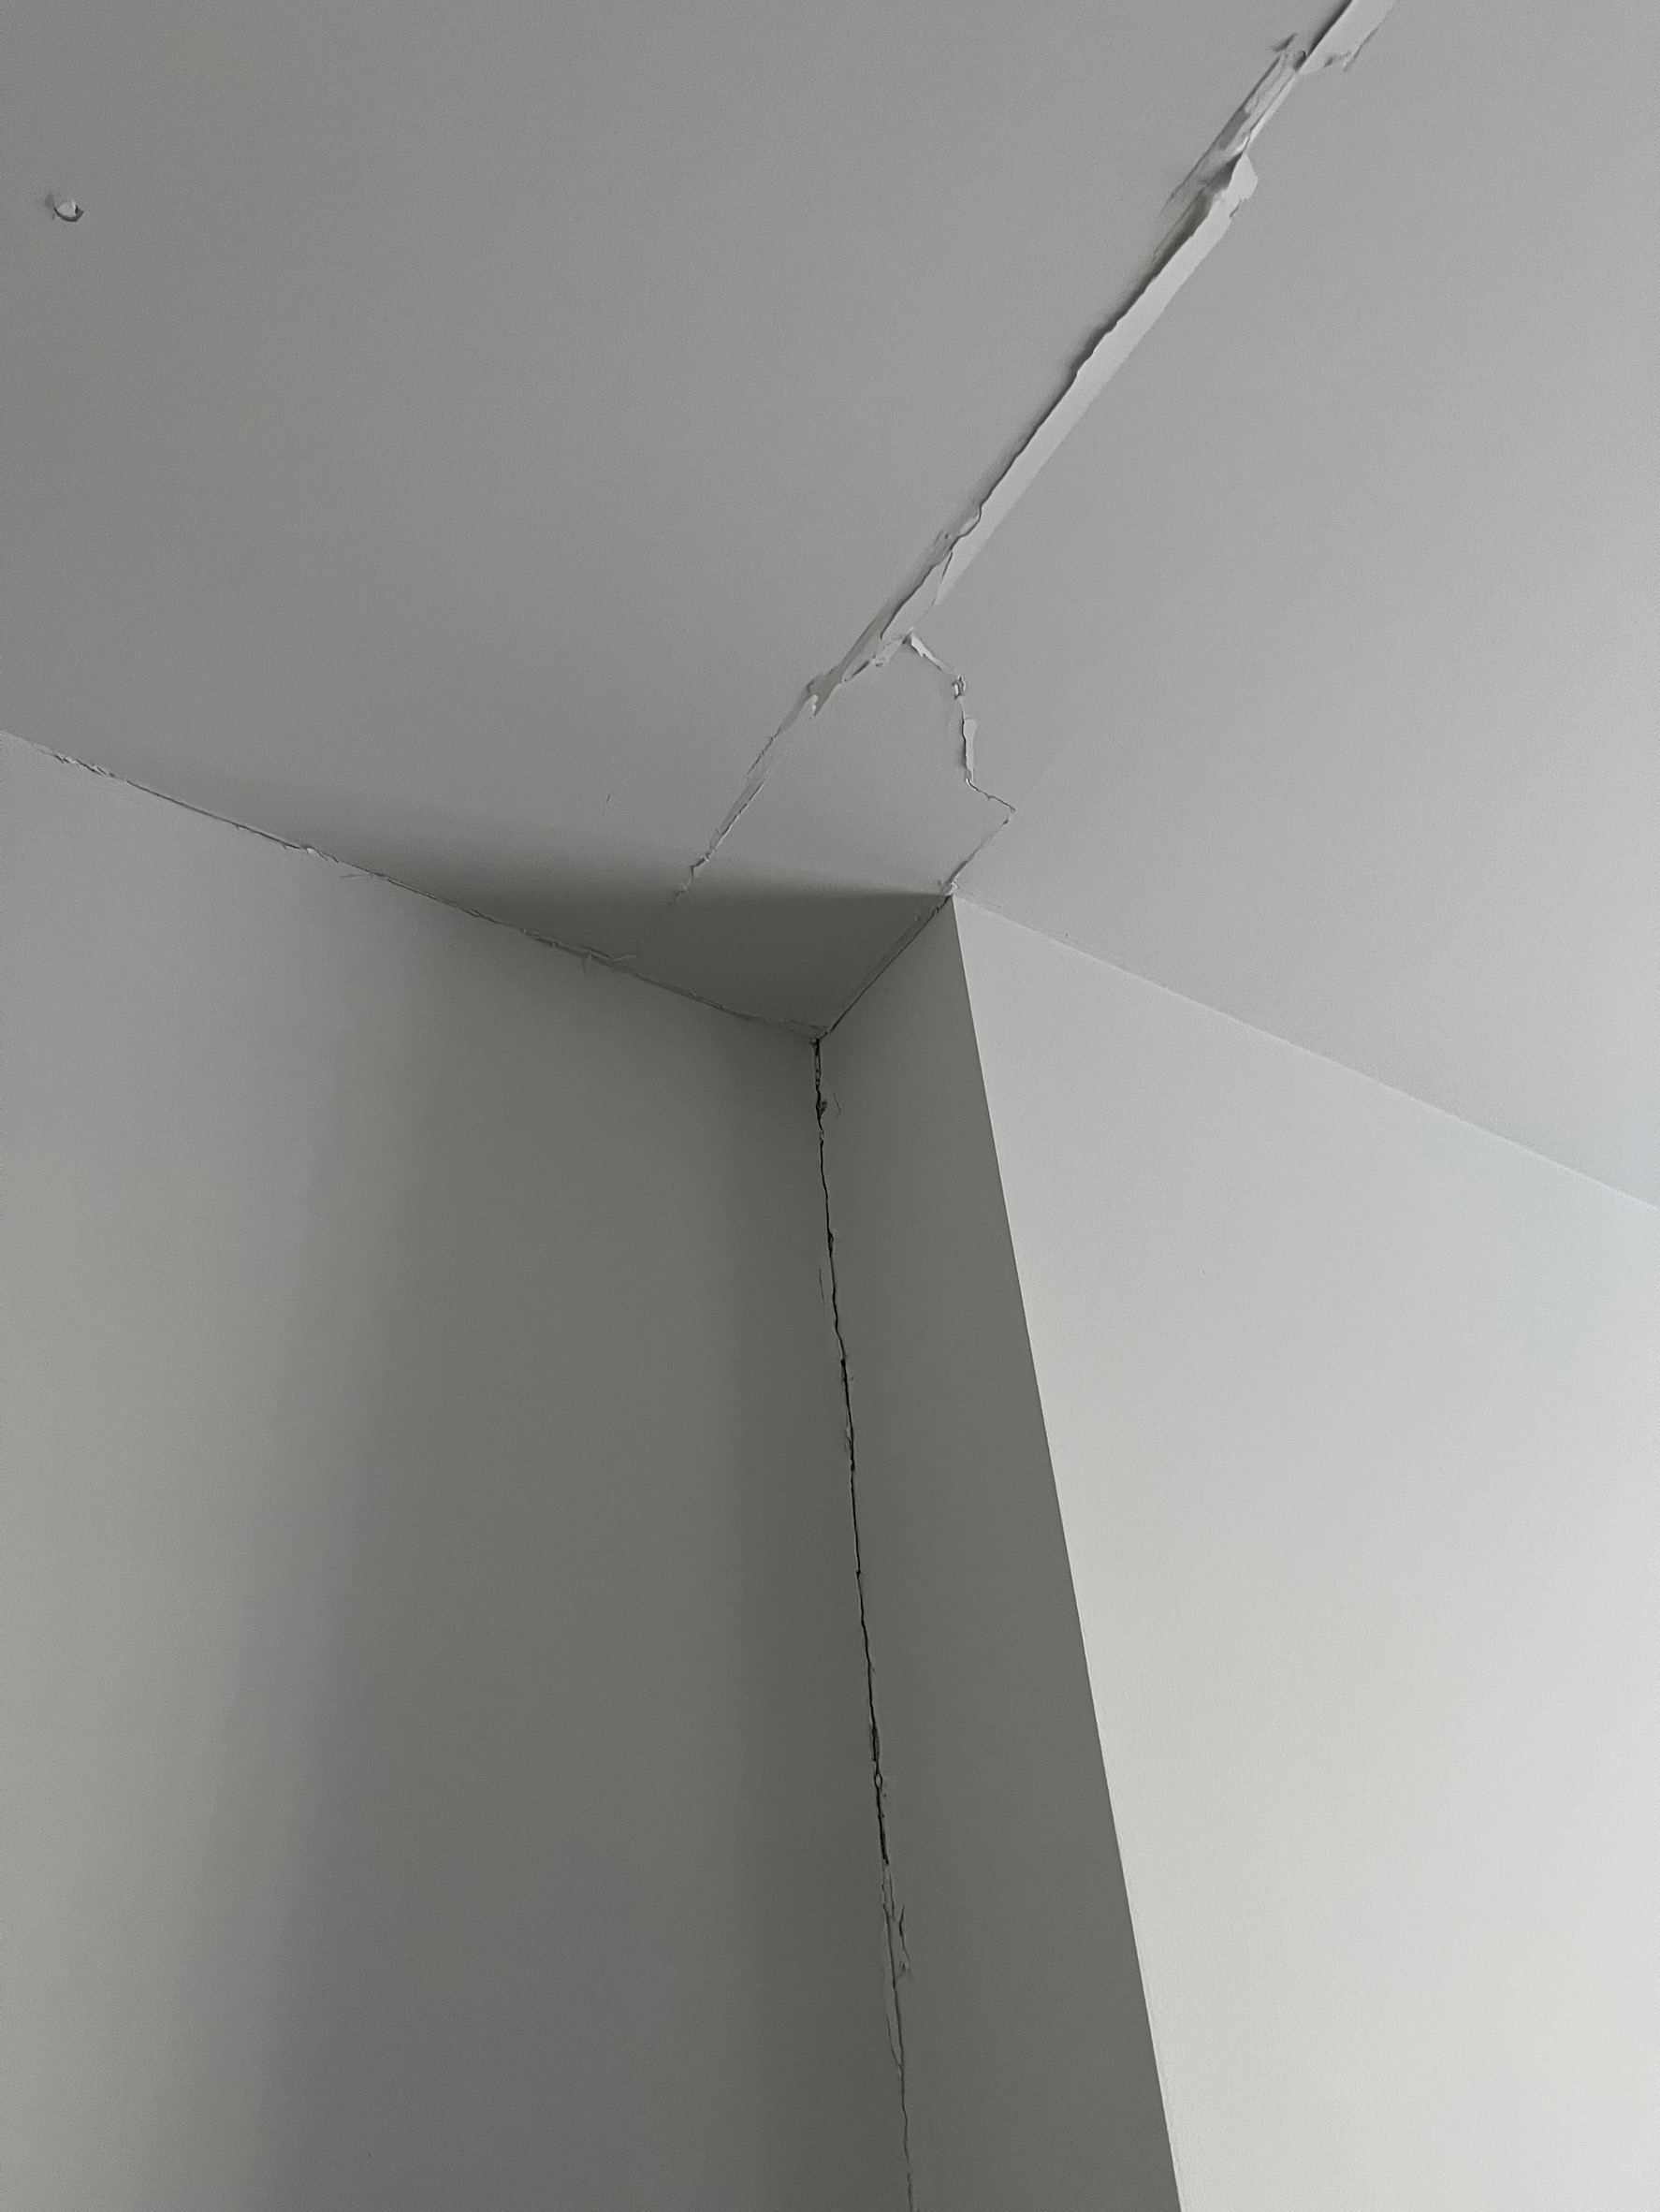Low: (649, 2, 1423, 901)
